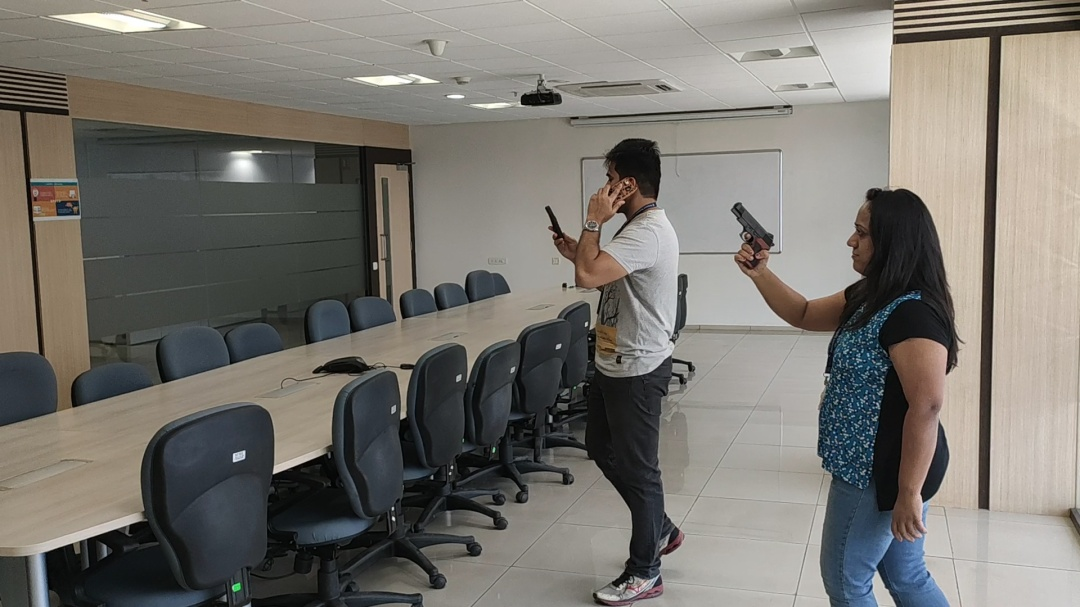gun: (730, 201, 776, 270)
